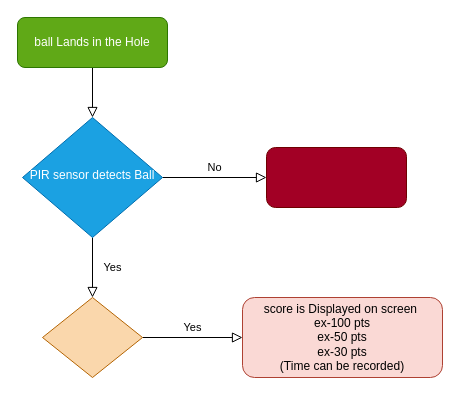
Some shapes in this 460 by 395 pixel diagram are drawn without their labels. The centre of each missing label's shape, as x and y in pixels:
Bulb burned out?: (92,337)
No changes found in circuit(timer still runs): (336,177)
